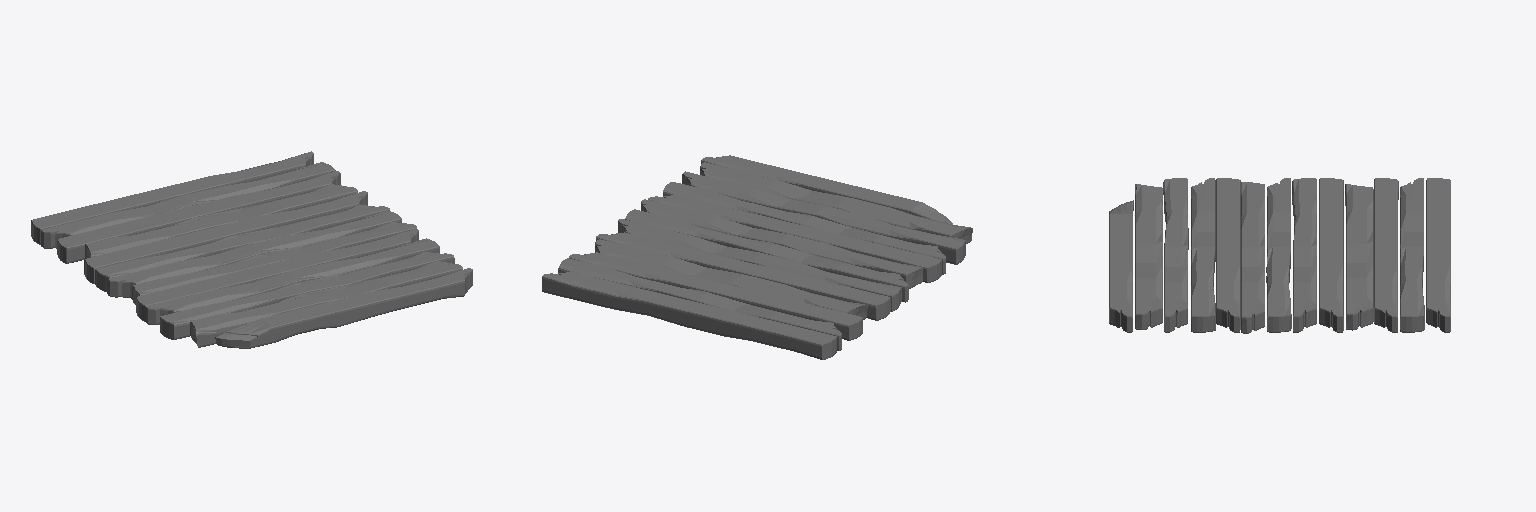
The model's file is woodPlanks.obj.
3 views of the same model, side by side, from view 1: azimuth 30°, elevation 25°; view 2: azimuth 150°, elevation 25°; view 3: azimuth 270°, elevation 25° (orthographic).
Size of the model in its own units: 15.68 by 0.865 by 16.24.